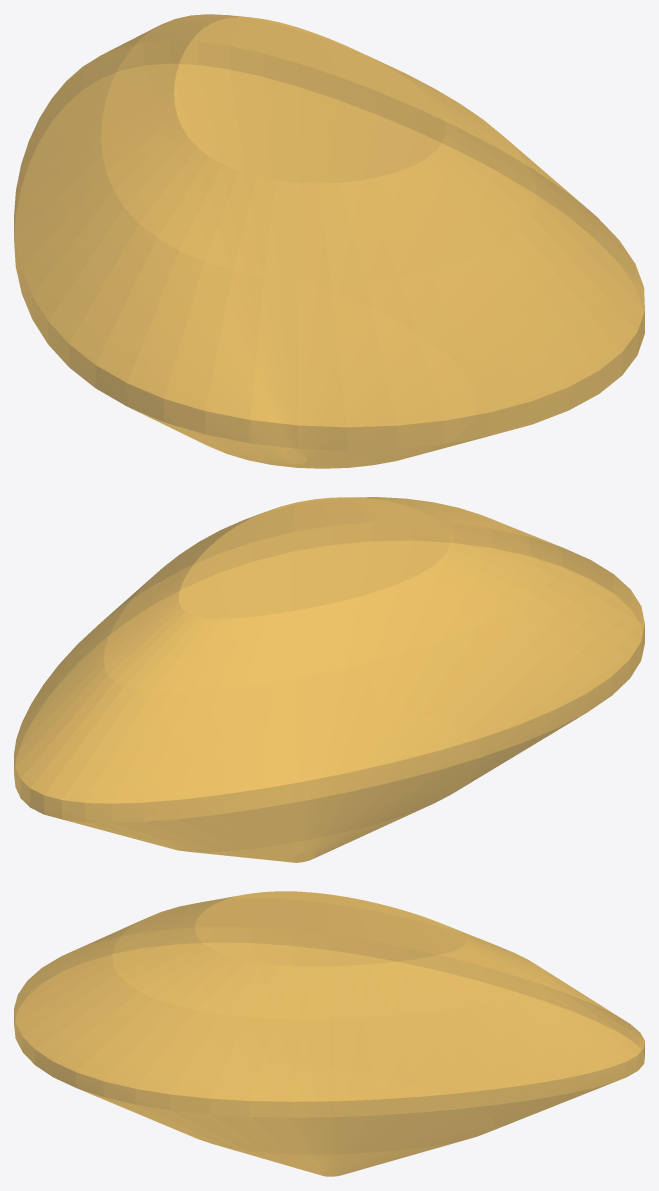
File: stone-citrine.glb
3 views of the same model, one above another, from view 1: azimuth 30°, elevation 25°; view 2: azimuth 150°, elevation 25°; view 3: azimuth 270°, elevation 25° (orthographic). The views are drawn at different scales.
Parts seen in each view (by area): view 1: Sculpture; view 2: Sculpture; view 3: Sculpture.
Part boxes in pixels (left/top/right/bottom): Sculpture: left=14, top=14, right=644, bottom=468; Sculpture: left=14, top=497, right=644, bottom=862; Sculpture: left=14, top=891, right=644, bottom=1176.
Size of the model in its own units: 1.66 by 1.07 by 2.53.
